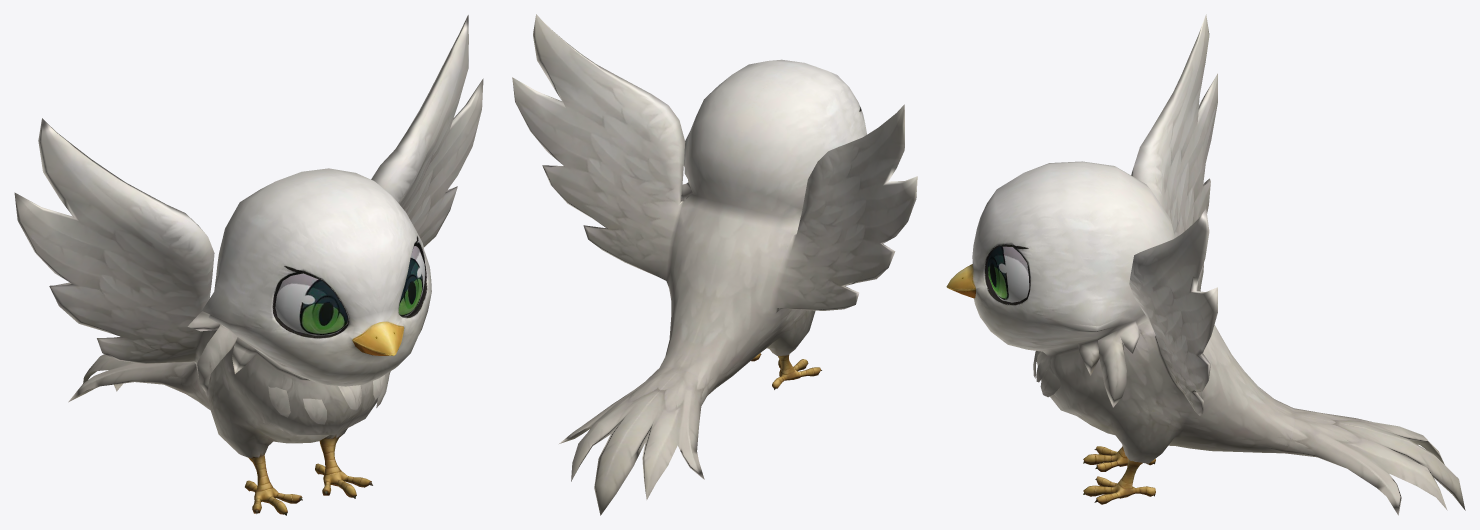
File: pet_snowie.glb
3 renders of one model, left to right at view 1: azimuth 30°, elevation 25°; view 2: azimuth 150°, elevation 25°; view 3: azimuth 270°, elevation 25°, orthographic. The views are drawn at different scales.
Visible parts, largest first — view 1: pet_snowie; view 2: pet_snowie; view 3: pet_snowie.
Boxes of the visible parts, box(x1,y1,x2,y2) form: pet_snowie: box(14, 15, 483, 515); pet_snowie: box(512, 14, 917, 515); pet_snowie: box(946, 14, 1465, 515).
Bounding box in the file's own units: 1.58 × 1.38 × 1.62.
1 material, 1 textured.
